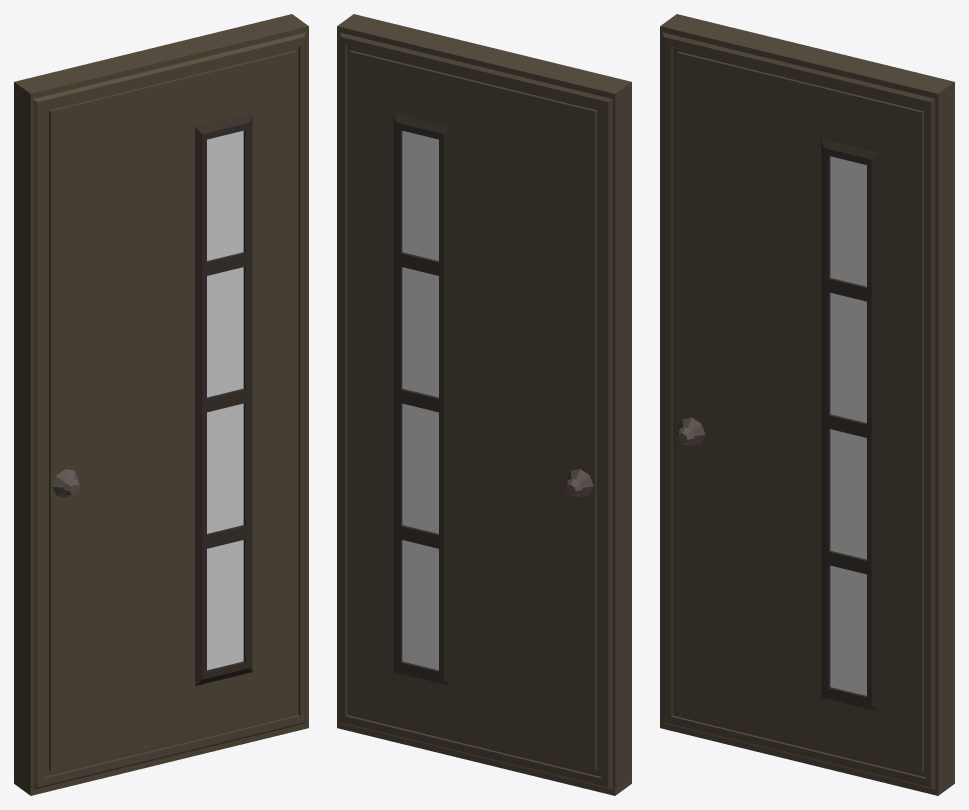
The model's file is Door_6.gltf.
3 renders of one model, left to right at view 1: azimuth 30°, elevation 25°; view 2: azimuth 150°, elevation 25°; view 3: azimuth 330°, elevation 25°, orthographic.
Visible parts, largest first — view 1: Door_6; view 2: Door_6; view 3: Door_6.
Part boxes in pixels (left/top/right/bottom): Door_6: left=14, top=14, right=308, bottom=795; Door_6: left=337, top=14, right=631, bottom=795; Door_6: left=660, top=14, right=954, bottom=795.
Size of the model in its own units: 1.74 by 4.2 by 0.4211.
